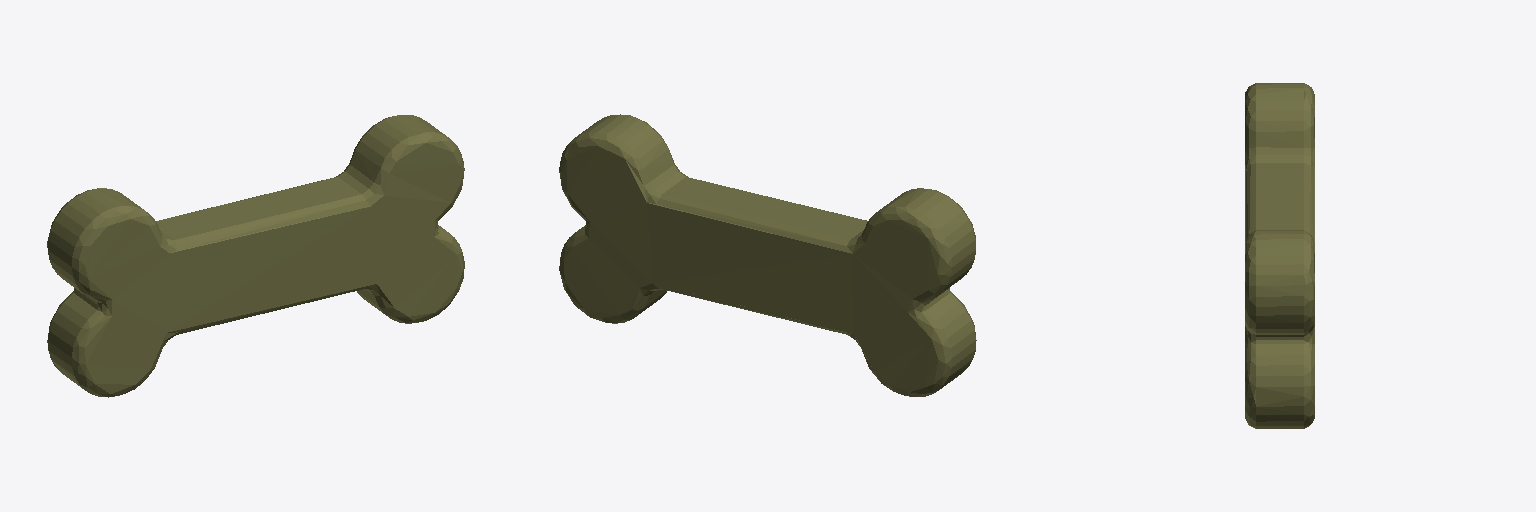
The picture shows the model from 3 angles: view 1: azimuth 30°, elevation 25°; view 2: azimuth 150°, elevation 25°; view 3: azimuth 270°, elevation 25°; orthographic projection.
Visible parts, largest first — view 1: bone; view 2: bone; view 3: bone.
Part boxes in pixels (bbox=[...]): bone: bbox=[47, 115, 464, 397]; bone: bbox=[559, 114, 976, 396]; bone: bbox=[1245, 83, 1314, 428].
Bounding box in the file's own units: 4.33 × 2 × 0.6673.